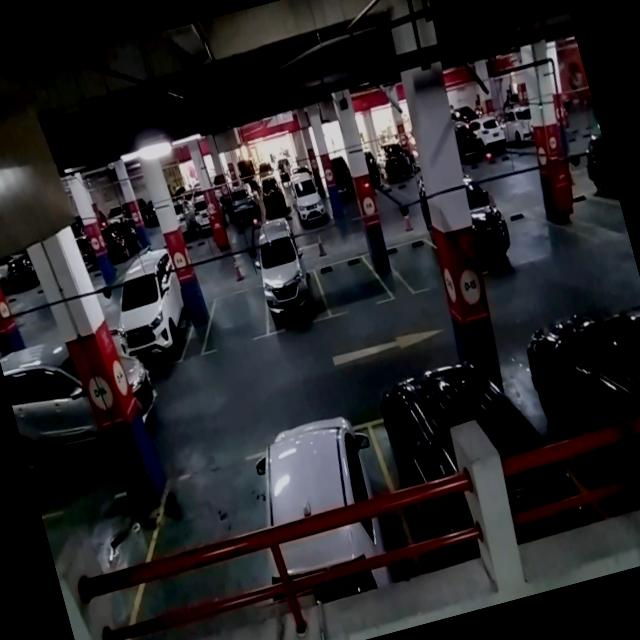empty: (123, 449, 310, 640), (184, 281, 276, 356), (312, 247, 395, 319), (384, 232, 446, 299)
occupied: (363, 364, 578, 594), (242, 407, 416, 620), (100, 256, 200, 377), (244, 225, 332, 338)
